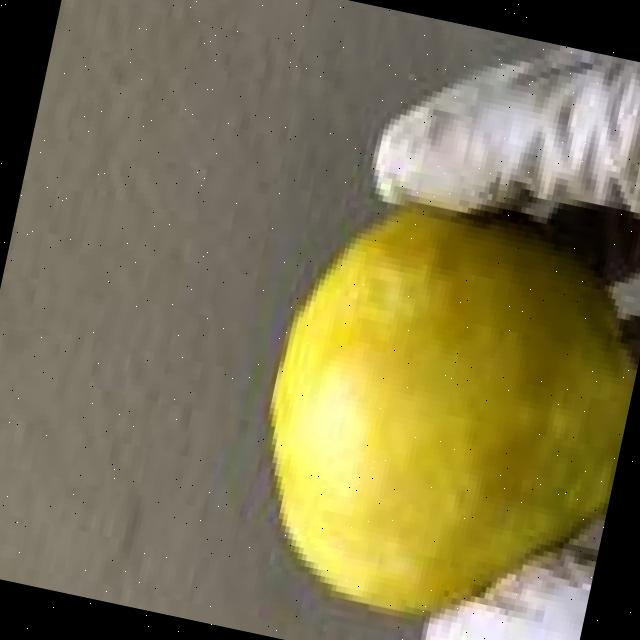Good_Guava 5-7 days: (267, 208, 640, 617)
